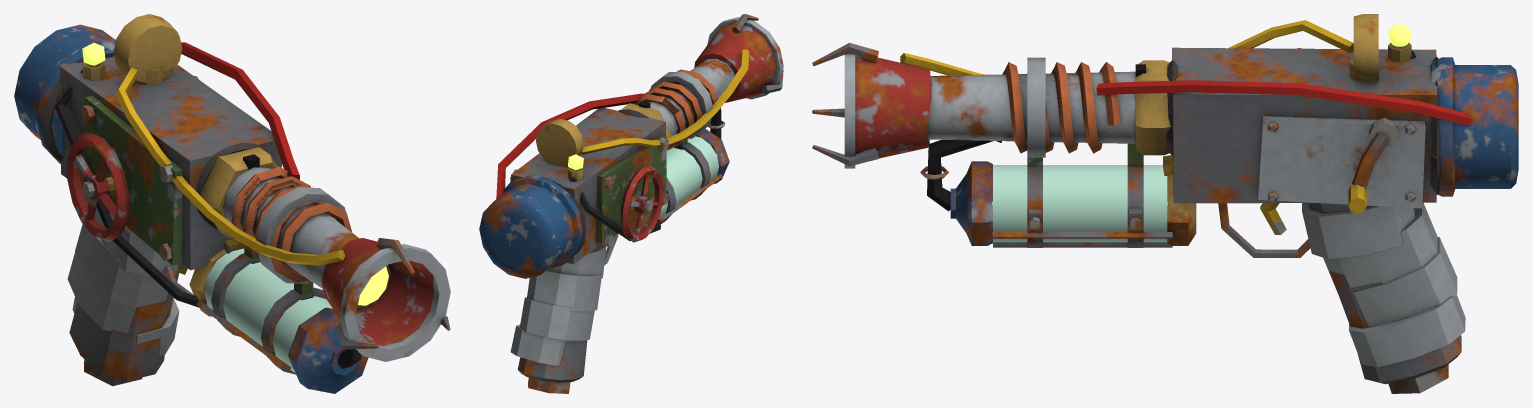
Rendered from Pistola_Chatarra.fbx.
The picture shows the model from 3 angles, left to right: view 1: azimuth 30°, elevation 25°; view 2: azimuth 150°, elevation 25°; view 3: azimuth 270°, elevation 25°; orthographic projection. The views are drawn at different scales.
Parts seen in each view (by area): view 1: Chatarra_Cuerpo, Chatarra_DepositoMarco, Chatarra_Deposito, Chatarra_Rueda, Chatarra_Luces; view 2: Chatarra_Cuerpo, Chatarra_Rueda, Chatarra_Deposito, Chatarra_DepositoMarco; view 3: Chatarra_Cuerpo, Chatarra_Deposito, Chatarra_DepositoMarco.
Boxes of the visible parts, <box> form: Chatarra_Cuerpo: <box>14,14,450,386</box>; Chatarra_DepositoMarco: <box>189,248,368,393</box>; Chatarra_Deposito: <box>204,248,332,372</box>; Chatarra_Rueda: <box>67,132,128,241</box>; Chatarra_Luces: <box>82,42,388,305</box>; Chatarra_Cuerpo: <box>479,14,783,393</box>; Chatarra_Rueda: <box>620,166,663,242</box>; Chatarra_Deposito: <box>658,136,719,219</box>; Chatarra_DepositoMarco: <box>630,128,729,231</box>; Chatarra_Cuerpo: <box>812,14,1518,393</box>; Chatarra_Deposito: <box>992,165,1168,242</box>; Chatarra_DepositoMarco: <box>950,161,1196,247</box>.
Size of the model in its own units: 0.835 by 1.56 by 2.67.
Materials: 3 (1 with a texture image).
